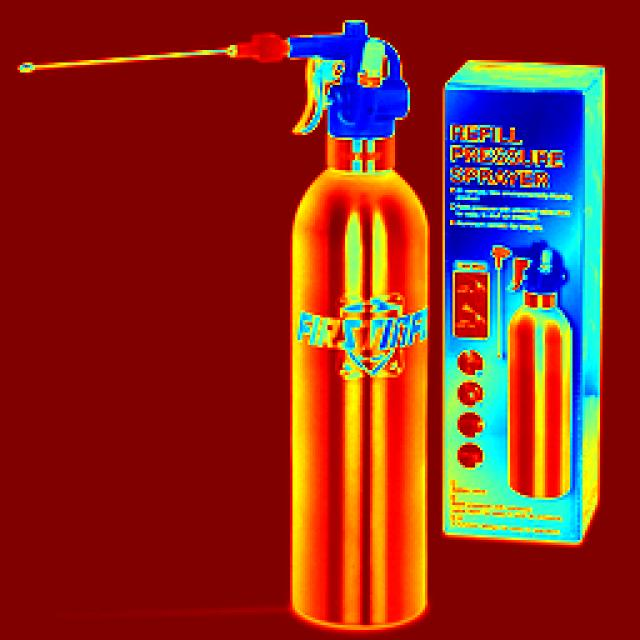Aerosol Cans: (5, 28, 438, 640)
